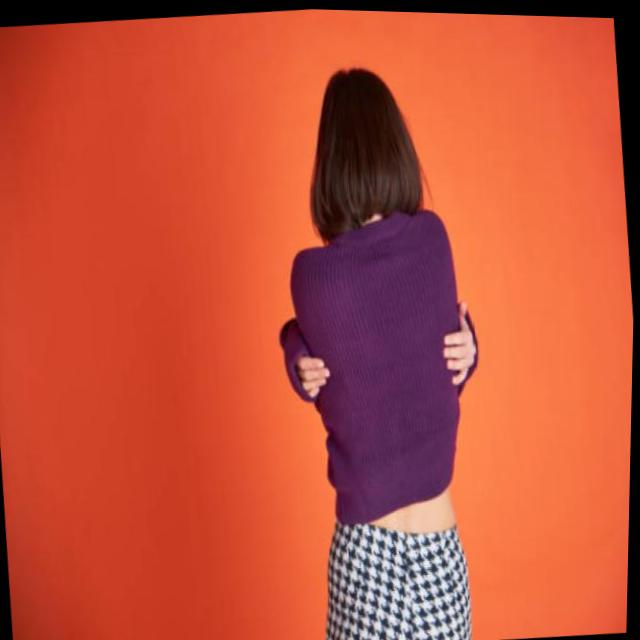no helmet: (273, 50, 454, 260)
